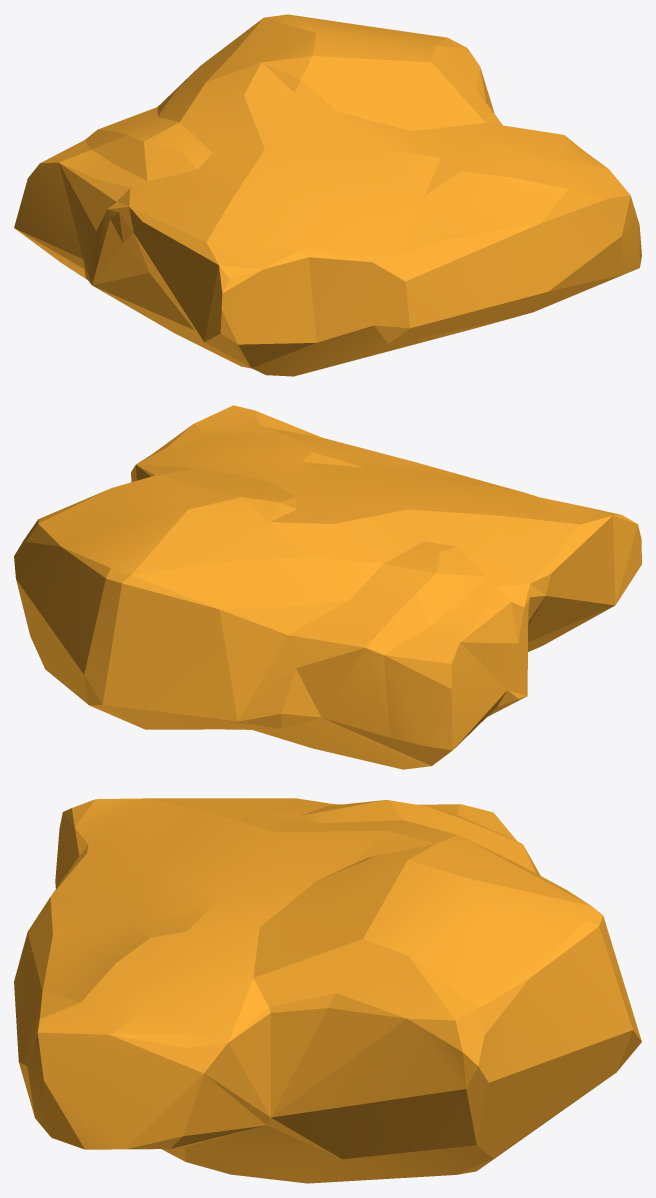
File: SM_Iceberg_Tiny_A_Plane.fbx
3 renders of one model, top to bottom at view 1: azimuth 30°, elevation 25°; view 2: azimuth 150°, elevation 25°; view 3: azimuth 270°, elevation 25°, orthographic. The views are drawn at different scales.
Visible parts, largest first — view 1: iceberg-tiny-a-plane; view 2: iceberg-tiny-a-plane; view 3: iceberg-tiny-a-plane.
Part boxes in pixels (box(x1,y1,x2,y2)): iceberg-tiny-a-plane: box(14, 14, 641, 376); iceberg-tiny-a-plane: box(14, 405, 641, 769); iceberg-tiny-a-plane: box(14, 798, 641, 1183).
Bounding box in the file's own units: 1.18 × 0.6008 × 1.19.
